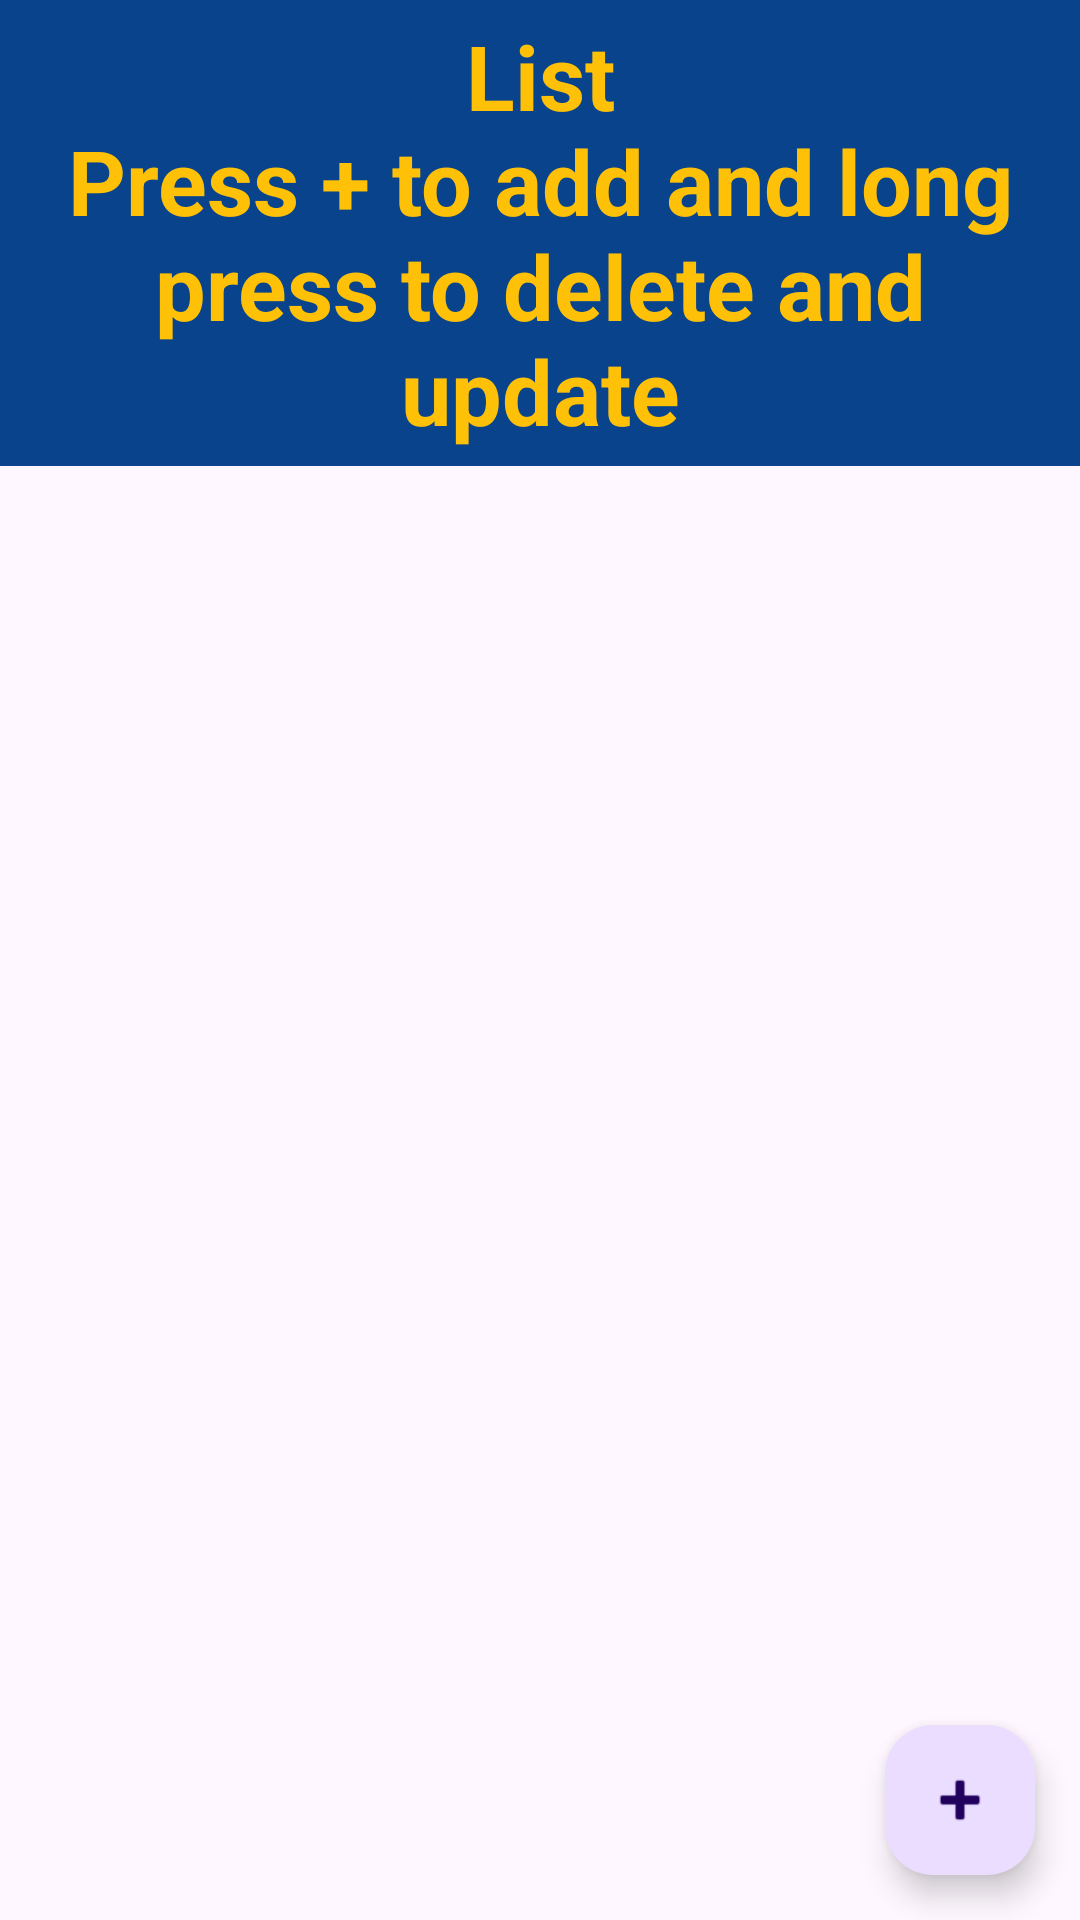

Screen size 1080w x 1920h. Icon name, then its box in pixels as BBox(x1, y1, x2, y2):
add: BBox(885, 1725, 1035, 1875)
